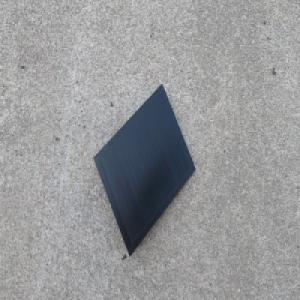PlasticPart: (92, 82, 196, 258)
